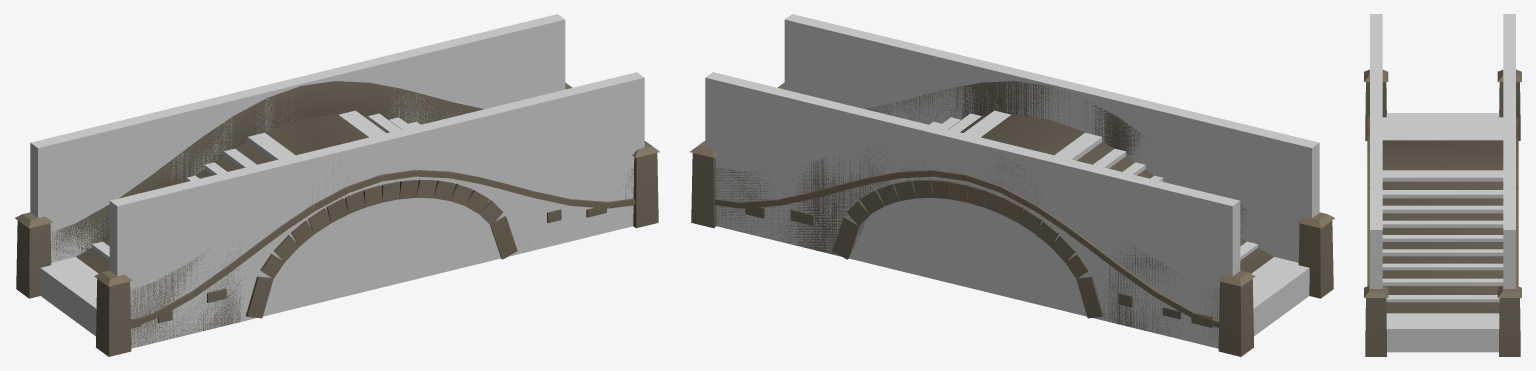
Rendered from bridge_stone.glb.
3 views of the same model, side by side, from view 1: azimuth 30°, elevation 25°; view 2: azimuth 150°, elevation 25°; view 3: azimuth 270°, elevation 25° (orthographic). The views are drawn at different scales.
Parts seen in each view (by area): view 1: COL_parapet_s, bridge_stone, COL_parapet_n, WALK_deck_w9, WALK_deck_0; view 2: COL_parapet_n, COL_parapet_s, bridge_stone, WALK_deck_w9, WALK_deck_0; view 3: bridge_stone, WALK_deck_e9, COL_parapet_n, COL_parapet_s, WALK_deck_0, WALK_deck_w9, WALK_deck_e1, WALK_deck_e2, WALK_deck_e3, WALK_deck_e5, WALK_deck_e7, WALK_deck_e6 (+4 smaller).
Boxes of the visible parts, bbox=[...] form: COL_parapet_s: bbox=[109, 72, 644, 348]; bridge_stone: bbox=[15, 81, 659, 356]; COL_parapet_n: bbox=[30, 14, 565, 262]; WALK_deck_w9: bbox=[40, 257, 98, 336]; WALK_deck_0: bbox=[247, 110, 386, 160]; COL_parapet_n: bbox=[705, 72, 1240, 348]; COL_parapet_s: bbox=[784, 14, 1319, 262]; bridge_stone: bbox=[690, 81, 1334, 356]; WALK_deck_w9: bbox=[1251, 257, 1309, 336]; WALK_deck_0: bbox=[963, 110, 1102, 160]; bridge_stone: bbox=[1364, 69, 1521, 356]; WALK_deck_e9: bbox=[1386, 313, 1499, 352]; COL_parapet_n: bbox=[1503, 14, 1515, 288]; COL_parapet_s: bbox=[1370, 14, 1382, 288]; WALK_deck_0: bbox=[1382, 133, 1503, 181]; WALK_deck_w9: bbox=[1382, 113, 1503, 127]; WALK_deck_e1: bbox=[1382, 190, 1503, 198]; WALK_deck_e2: bbox=[1382, 205, 1503, 213]; WALK_deck_e3: bbox=[1382, 220, 1503, 227]; WALK_deck_e5: bbox=[1382, 249, 1503, 256]; WALK_deck_e7: bbox=[1382, 278, 1503, 285]; WALK_deck_e6: bbox=[1382, 263, 1503, 270].
Bounding box in the file's own units: 14.66 × 3.7 × 4.32.
